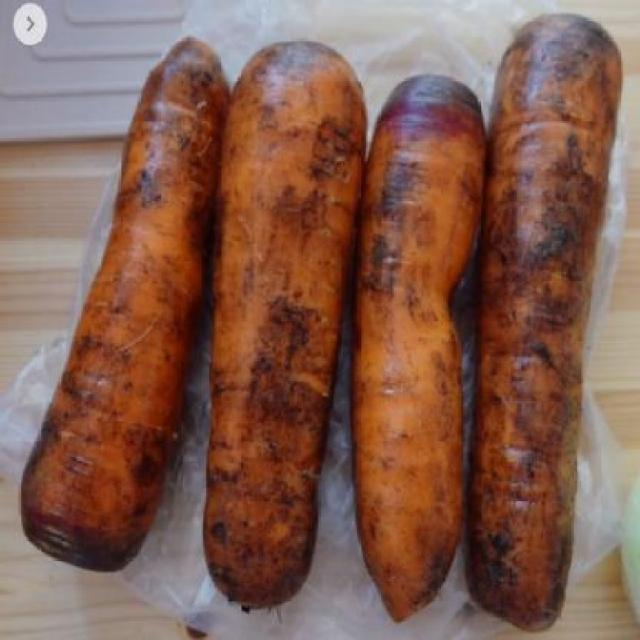carrot: (32, 31, 215, 592), (204, 36, 360, 606), (482, 12, 621, 632), (360, 75, 478, 623)
